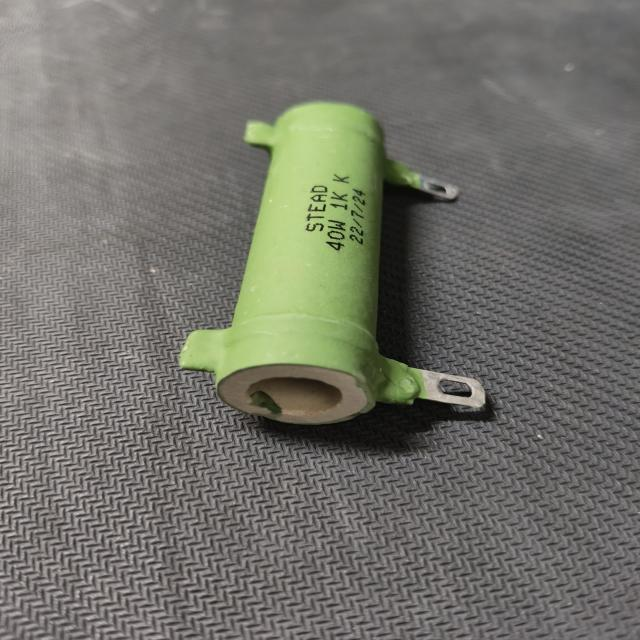resistor: (169, 98, 509, 436)
